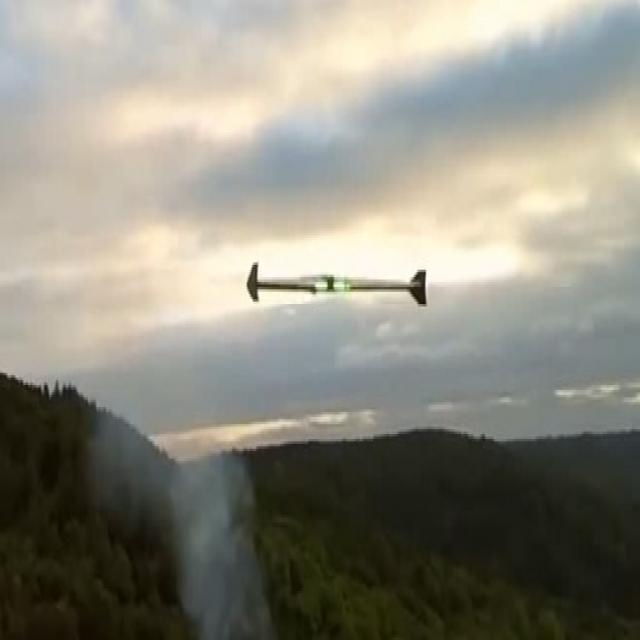iha: (233, 270, 507, 298)
